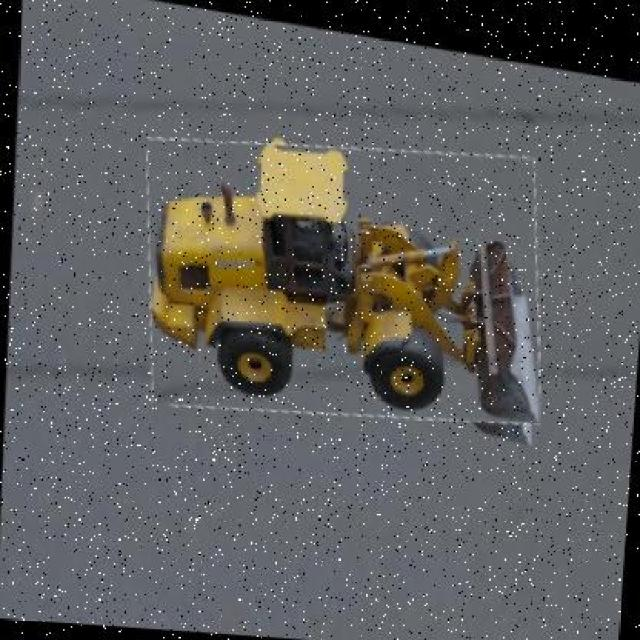buldozerpayloadergrader: (144, 136, 559, 424)
